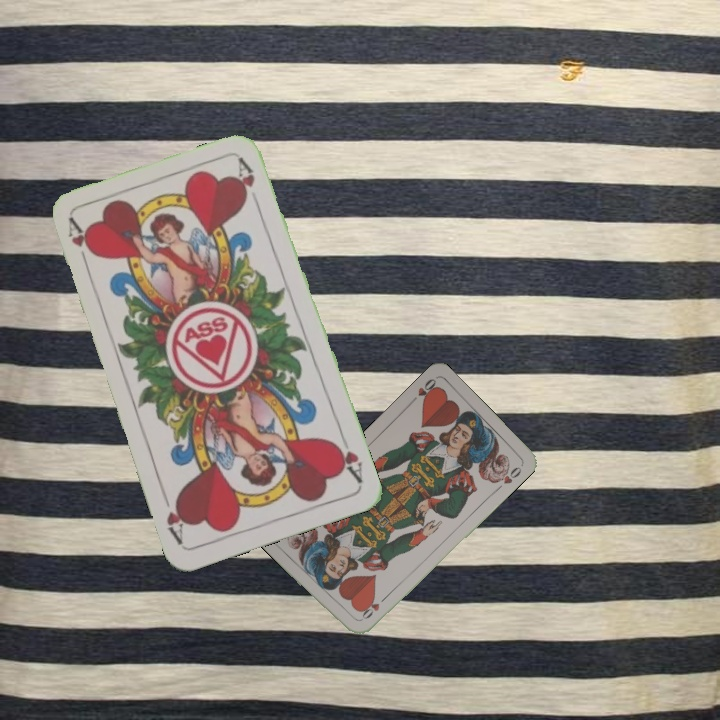HA: (329, 429, 366, 486), (64, 215, 97, 273)
HO: (406, 374, 440, 407), (355, 593, 389, 624)
